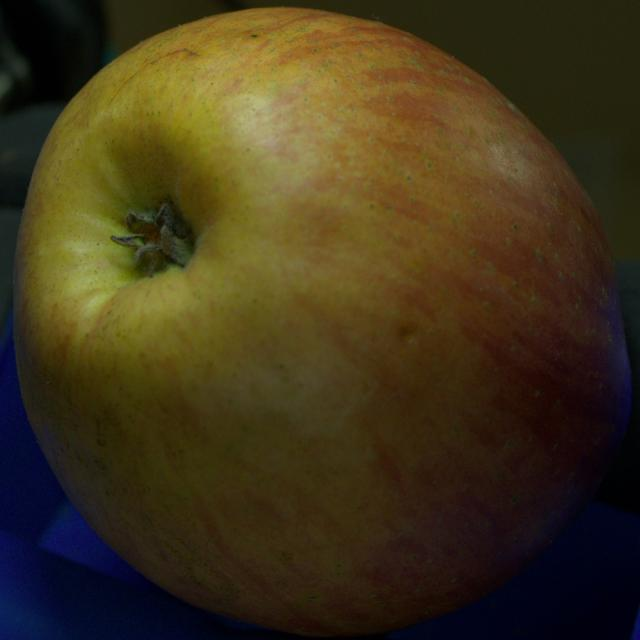apple: (14, 8, 631, 636)
pest: (400, 331, 418, 345), (250, 34, 258, 38)
